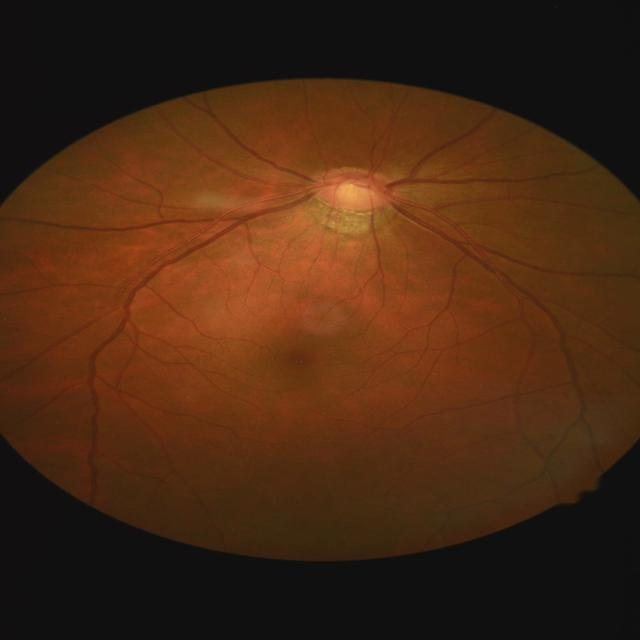cup: (332, 176, 378, 204)
disk: (312, 166, 394, 212)
